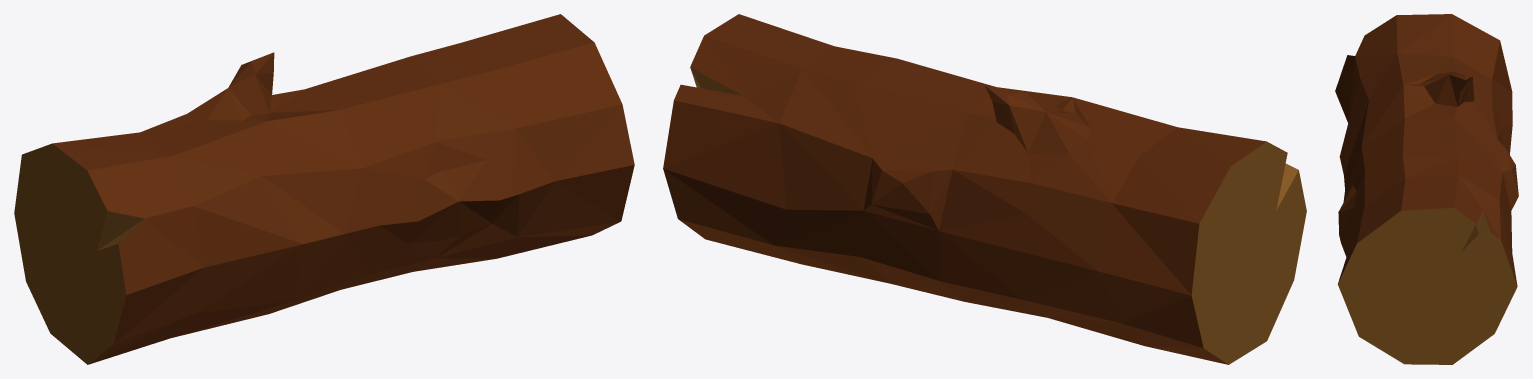
The model's file is LogB.fbx.
3 renders of one model, left to right at view 1: azimuth 30°, elevation 25°; view 2: azimuth 150°, elevation 25°; view 3: azimuth 270°, elevation 25°, orthographic. The views are drawn at different scales.
Parts seen in each view (by area): view 1: LogB; view 2: LogB; view 3: LogB.
Part boxes in pixels (<box>): LogB: <box>14,14,634,364</box>; LogB: <box>663,14,1306,364</box>; LogB: <box>1335,14,1518,364</box>.
Bounding box in the file's own units: 96.57 × 40.6 × 38.12.
